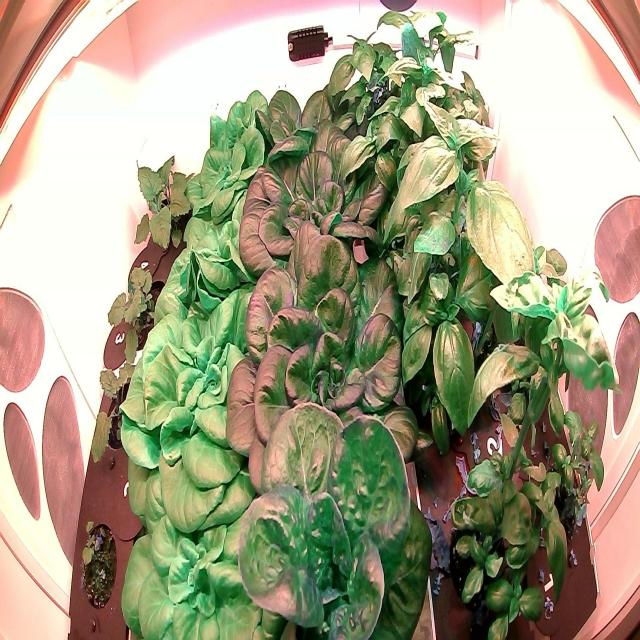Ready: (217, 212, 448, 494), (112, 272, 310, 548), (227, 388, 443, 640), (117, 429, 315, 639), (235, 104, 406, 306), (147, 173, 300, 367), (247, 49, 391, 190), (178, 76, 288, 236)
